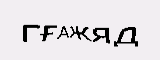Б: (39, 19, 55, 39)
В: (88, 13, 104, 40)
З: (103, 14, 118, 38)
М: (54, 18, 71, 39)
С: (72, 15, 89, 39)
